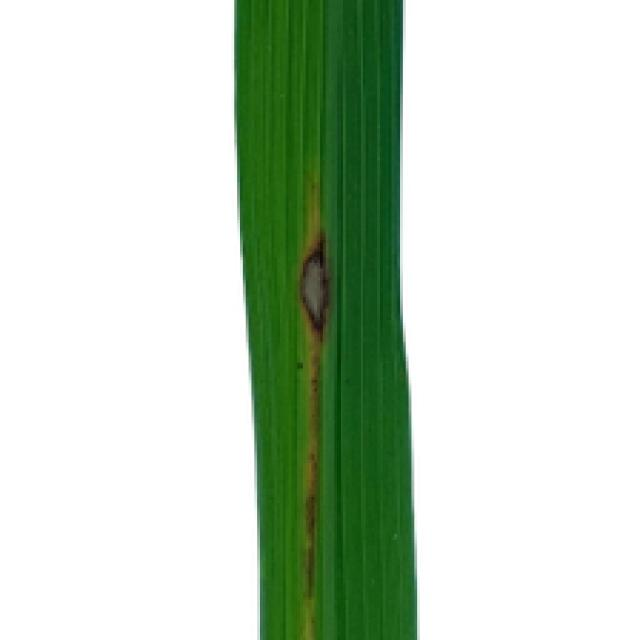Rice___Rice_Blast: (232, 0, 420, 637)
